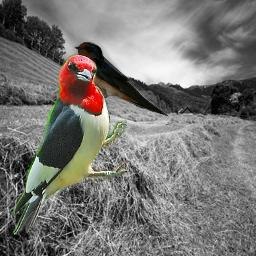Swallow: (72, 40, 170, 118)
Woodpecker: (8, 53, 127, 235)
